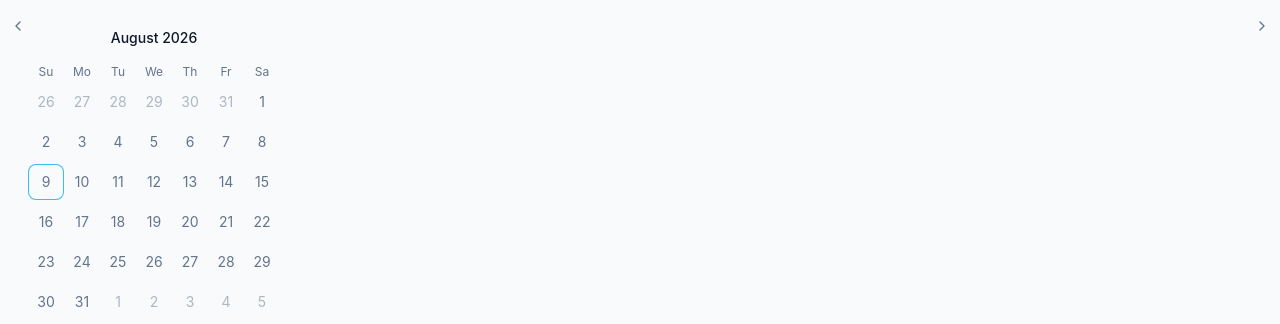
Scenario: Calendar › offers month navigation
The width and height of the screenshot is (1280, 324).
Click the button named "next": [1262, 26] box [1248, 12, 1276, 40]
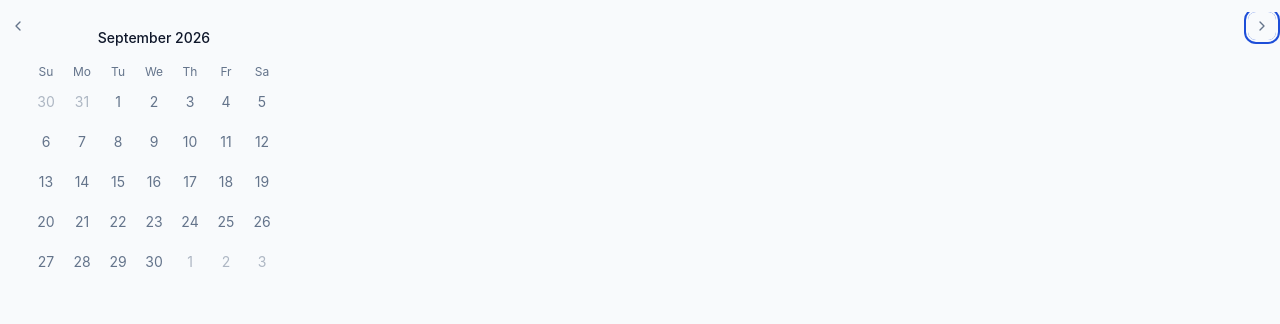
Result: the text "September 2026" is shown at [98, 28, 210, 48]
